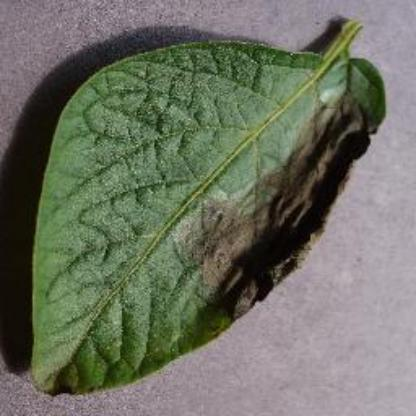Late-Blight: (25, 17, 393, 397)
